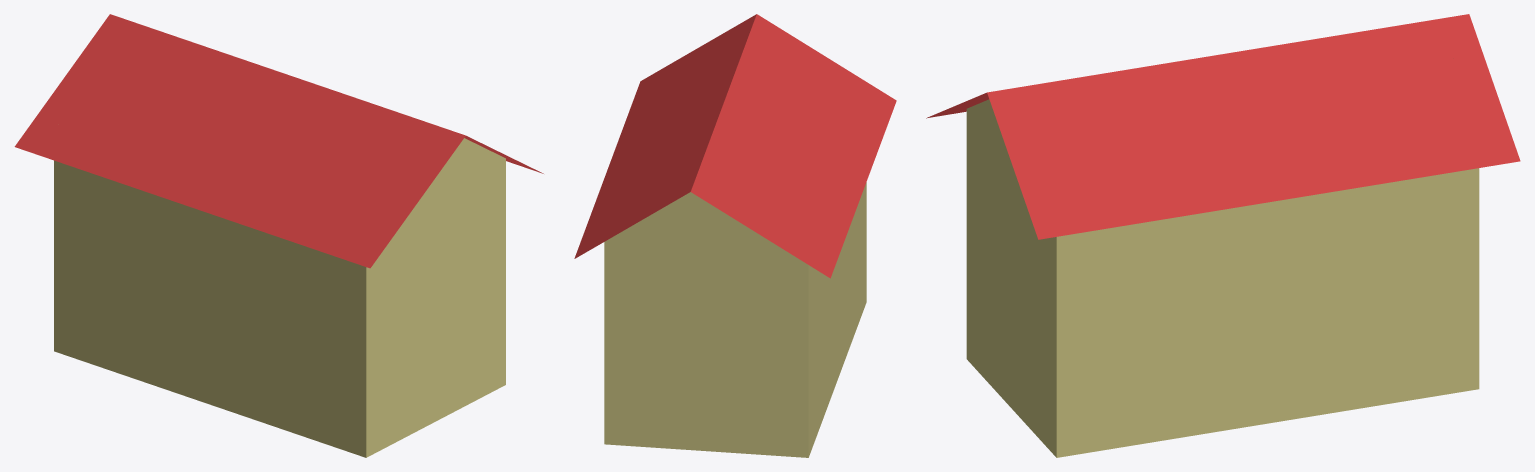
3 views of the same model, side by side, from view 1: azimuth 30°, elevation 25°; view 2: azimuth 150°, elevation 25°; view 3: azimuth 270°, elevation 25° (orthographic). The views are drawn at different scales.
Bounding box in the file's own units: 11.28 × 14.01 × 8.48.
